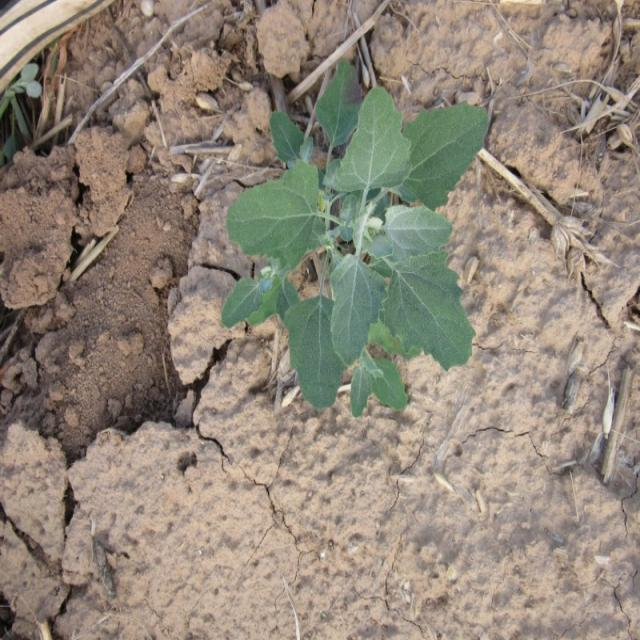ca: (229, 50, 492, 421)
